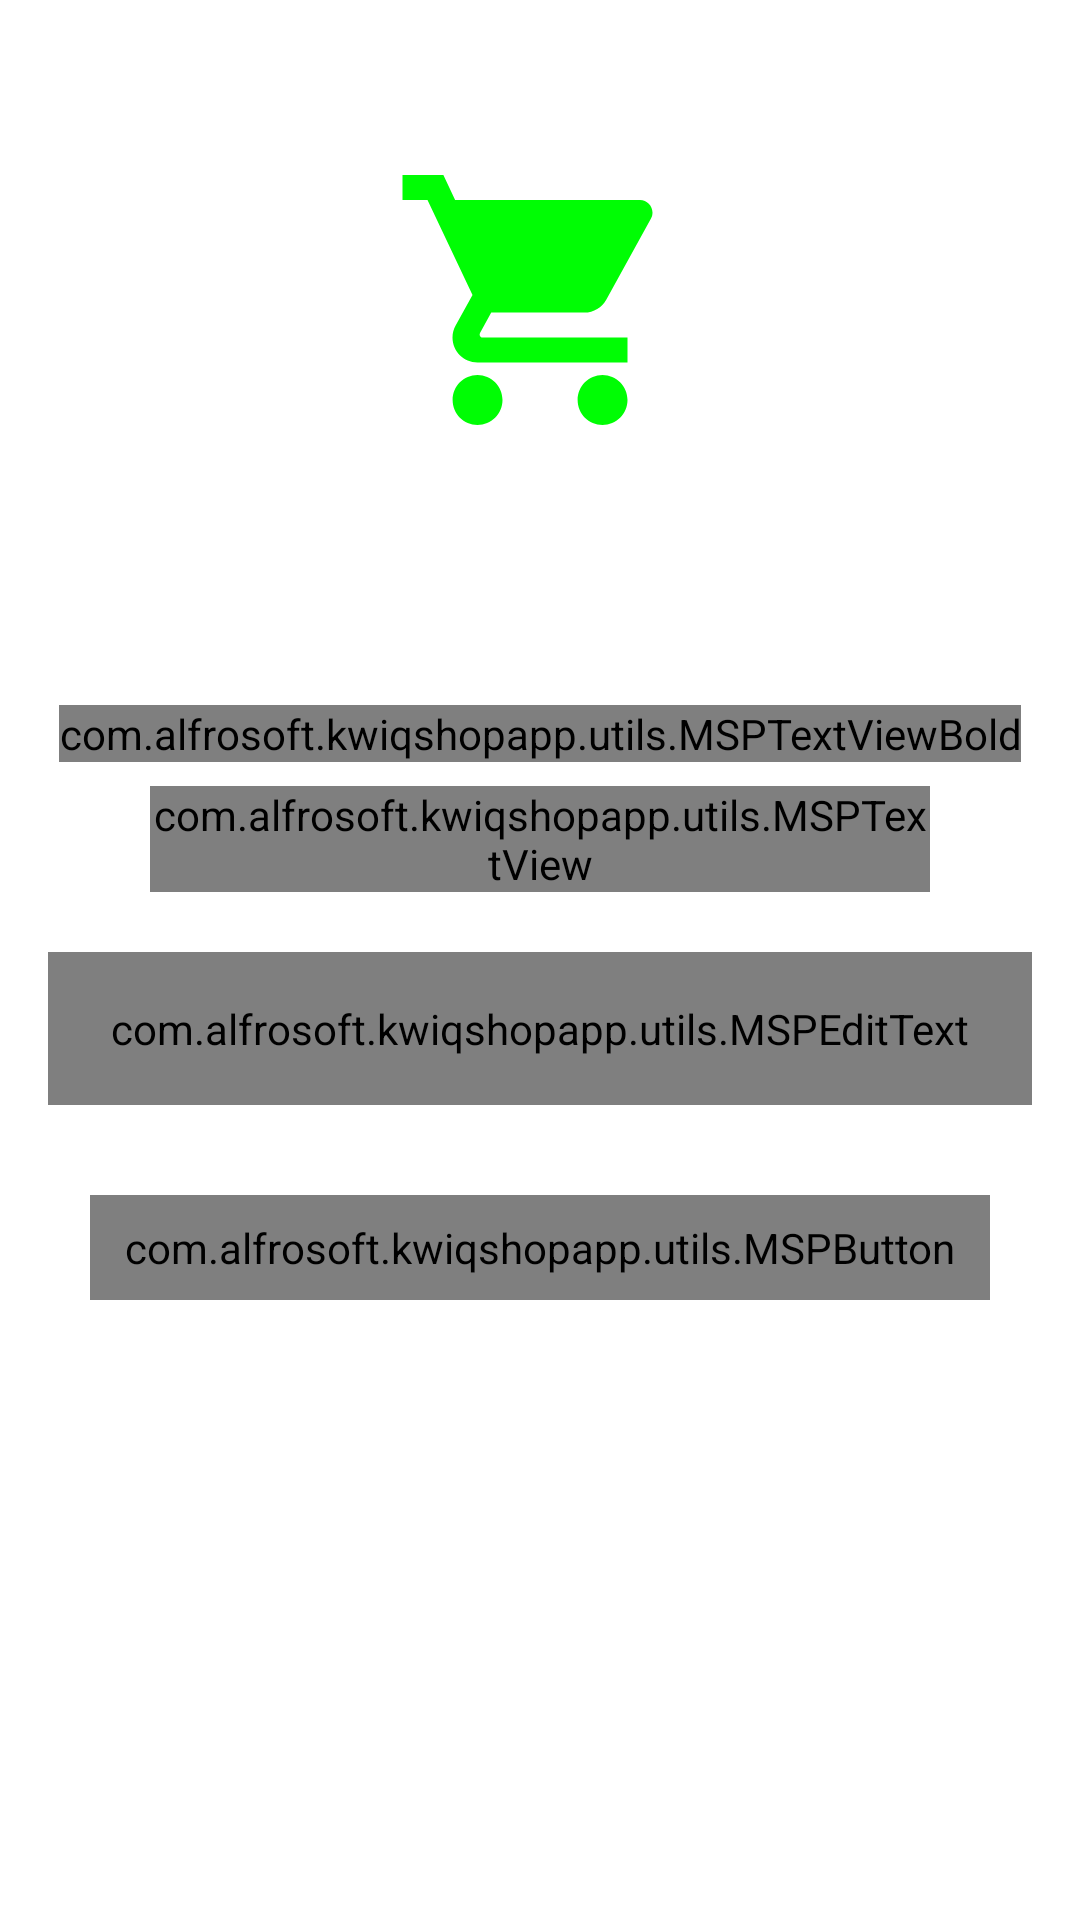

Icons on this 1080 x 1920 Android screen, each with its box as (x1, y1, x2, y2):
shopping cart: (402, 175, 653, 425)
